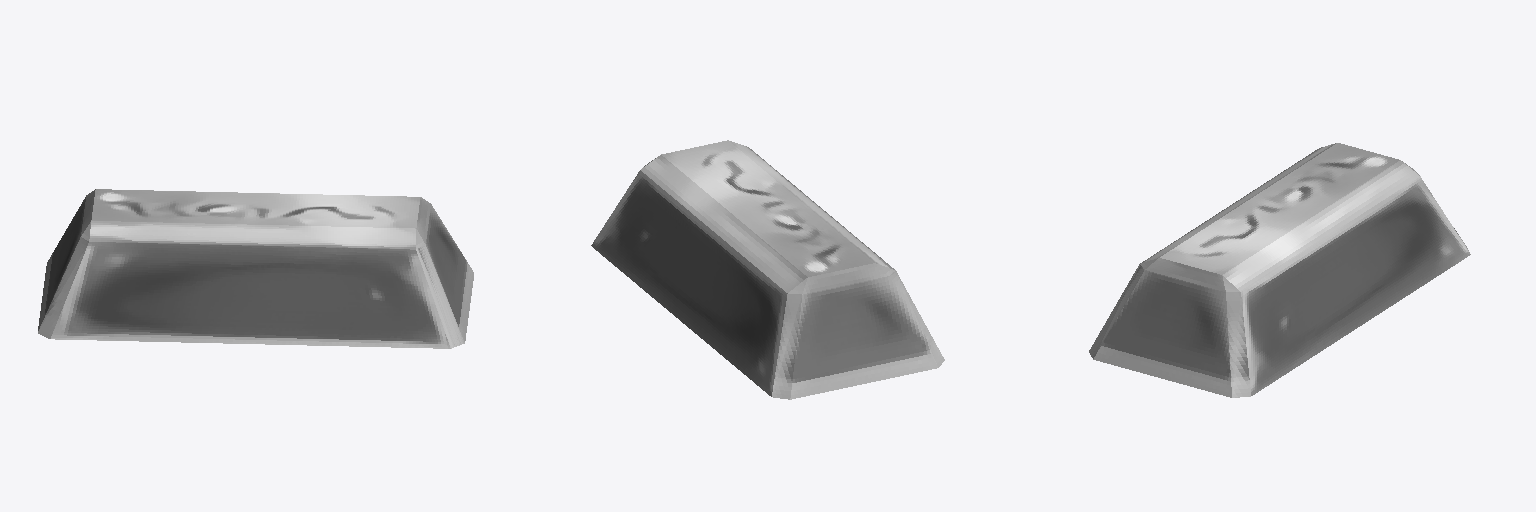
3 renders of one model, left to right at view 1: azimuth 30°, elevation 25°; view 2: azimuth 150°, elevation 25°; view 3: azimuth 270°, elevation 25°, orthographic.
Visible parts, largest first — view 1: ingot; view 2: ingot; view 3: ingot.
Part boxes in pixels (x1,y1,x2,y2): ingot: (38, 189, 473, 348); ingot: (591, 140, 944, 399); ingot: (1089, 143, 1470, 397).
Size of the model in its own units: 2.99 by 0.6924 by 2.54.
1 materials, 1 textured.